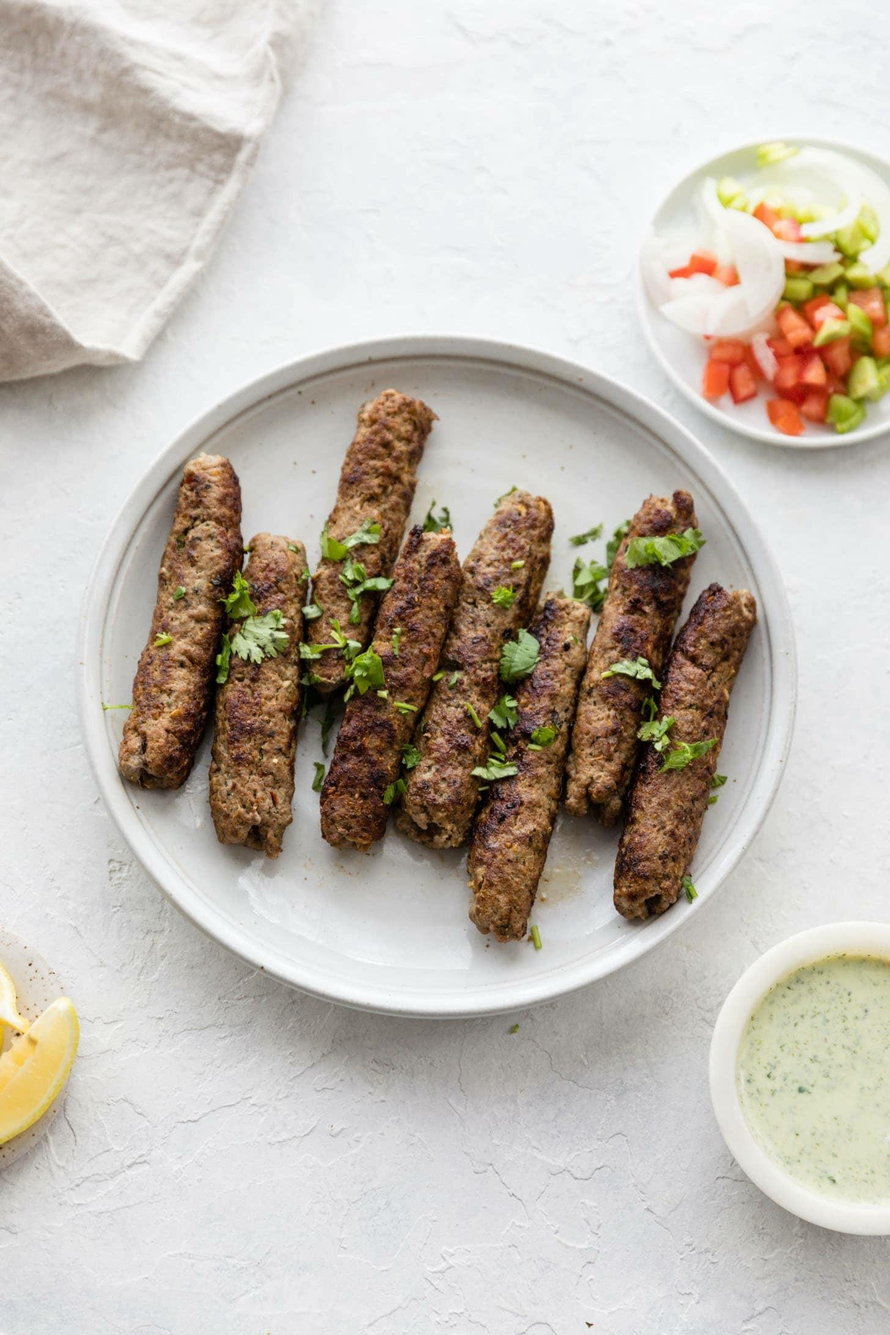Kebab: (394, 488, 554, 847), (613, 581, 758, 922), (319, 523, 462, 851), (565, 489, 700, 827), (466, 594, 590, 943), (118, 456, 241, 793), (307, 390, 437, 694), (208, 535, 308, 858)
